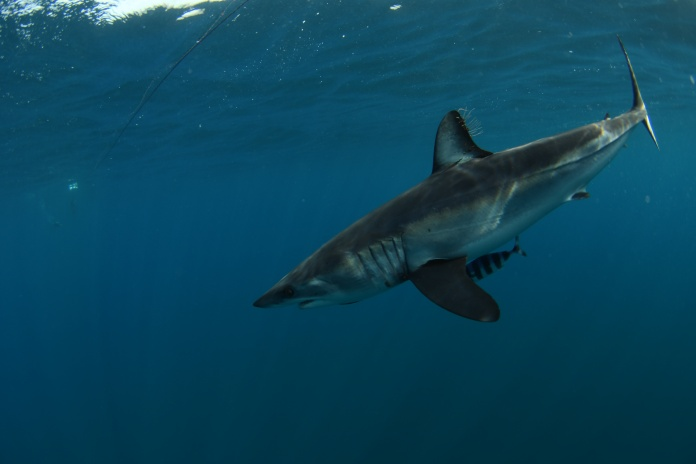Mako: (240, 24, 671, 332)
